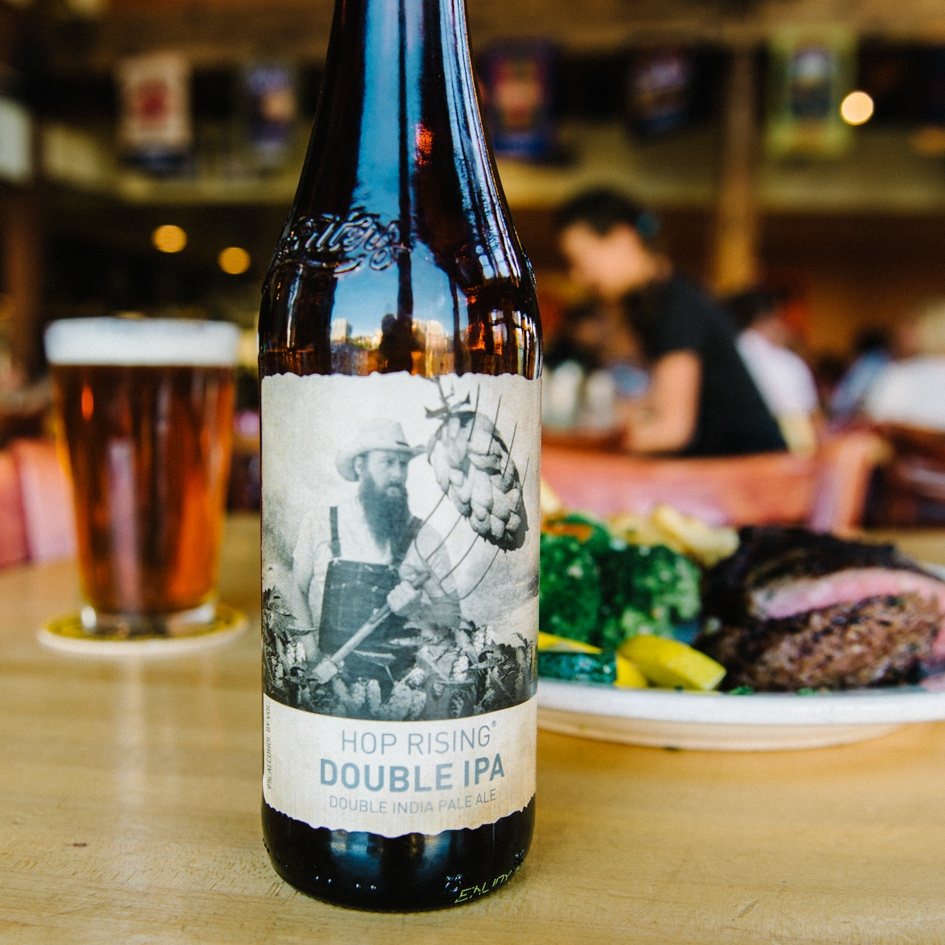beerBottle: (261, 37, 538, 892)
